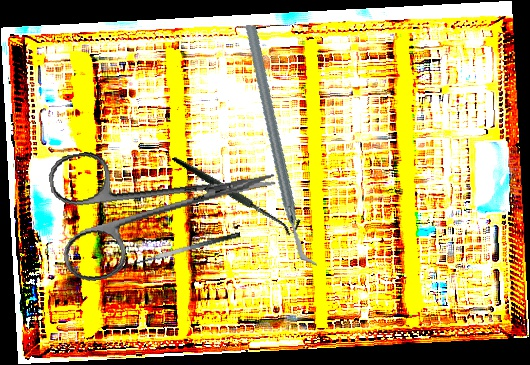Chopper: (202, 24, 360, 267)
Hook Surgical: (171, 118, 305, 267)
Iris Scissors: (45, 120, 288, 286)
Spatula Surgical: (120, 231, 244, 277)
